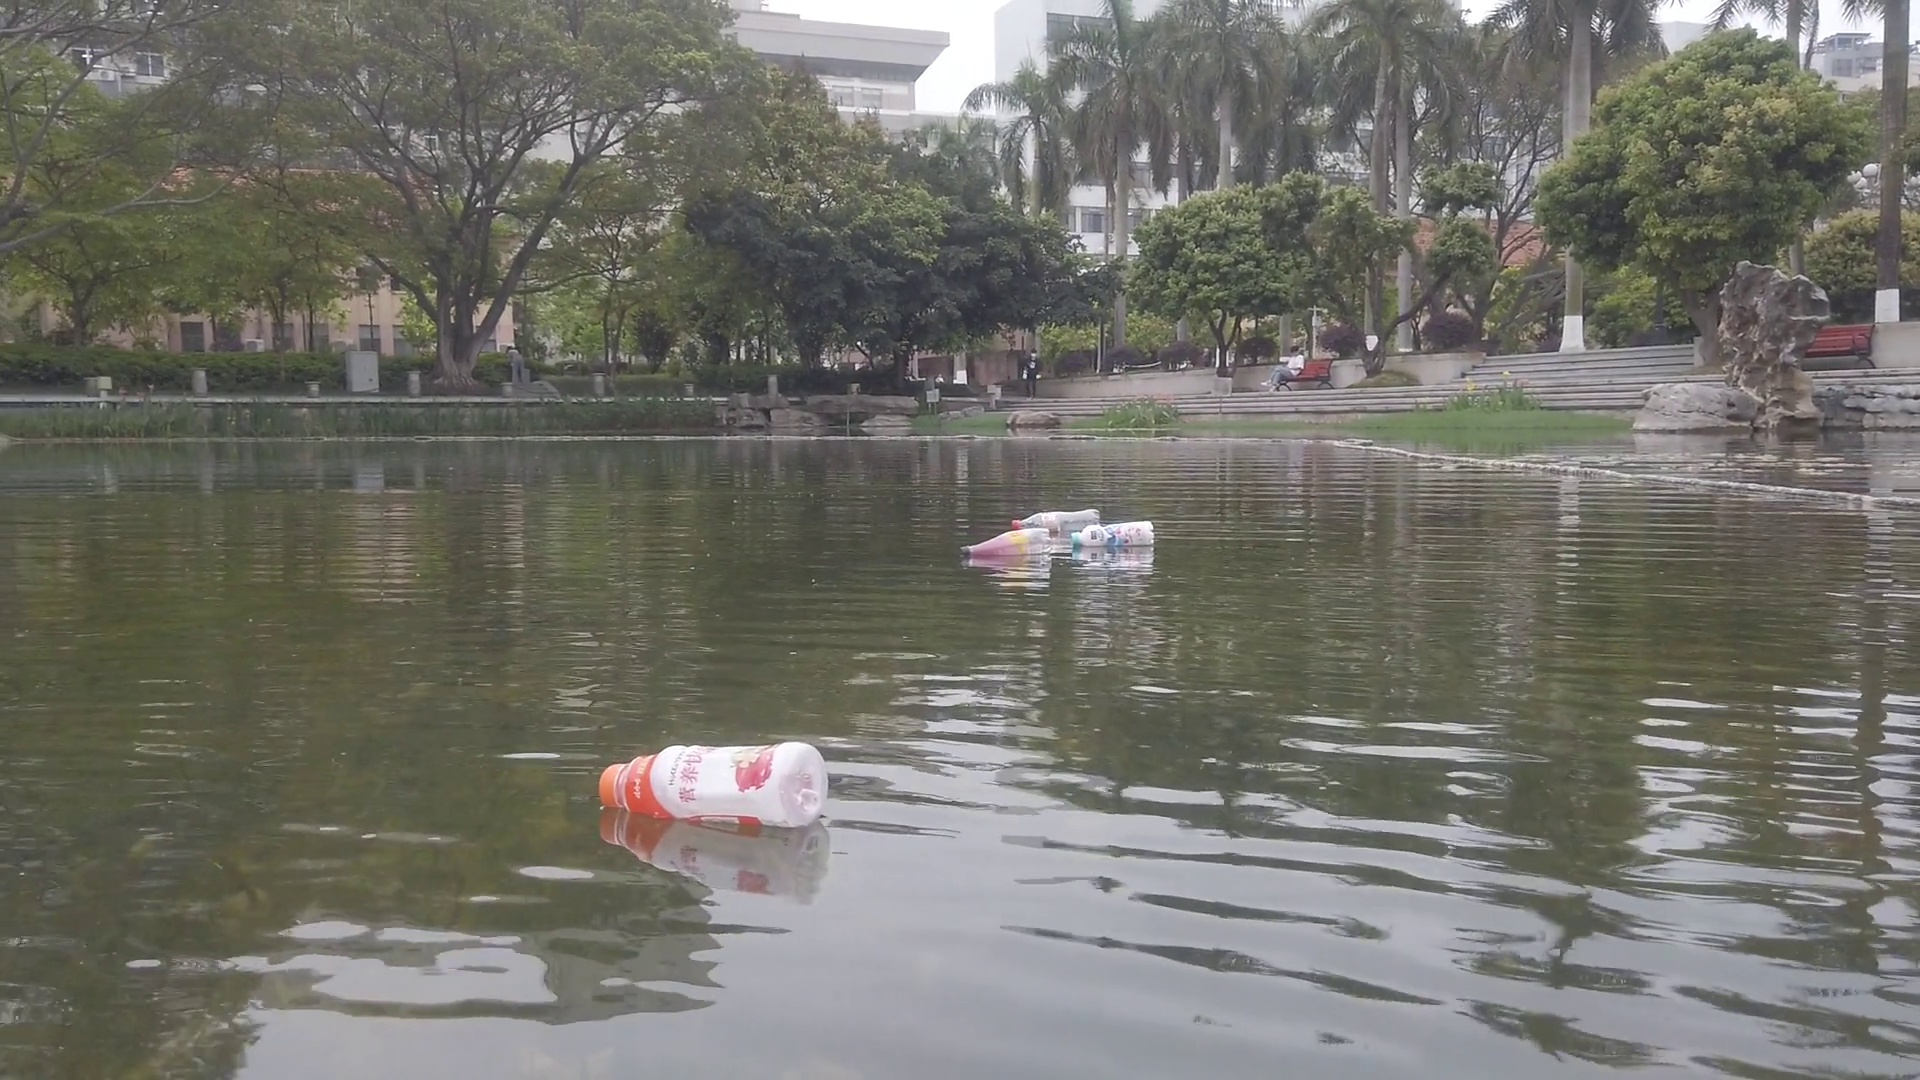bottle: (597, 742, 829, 828), (959, 531, 1054, 564), (1011, 506, 1102, 538), (1072, 524, 1155, 549)
